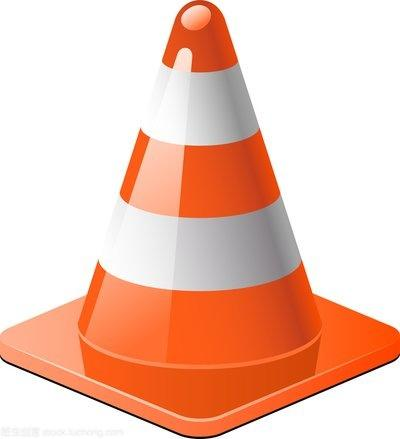cone_barrel: (77, 5, 335, 410)
